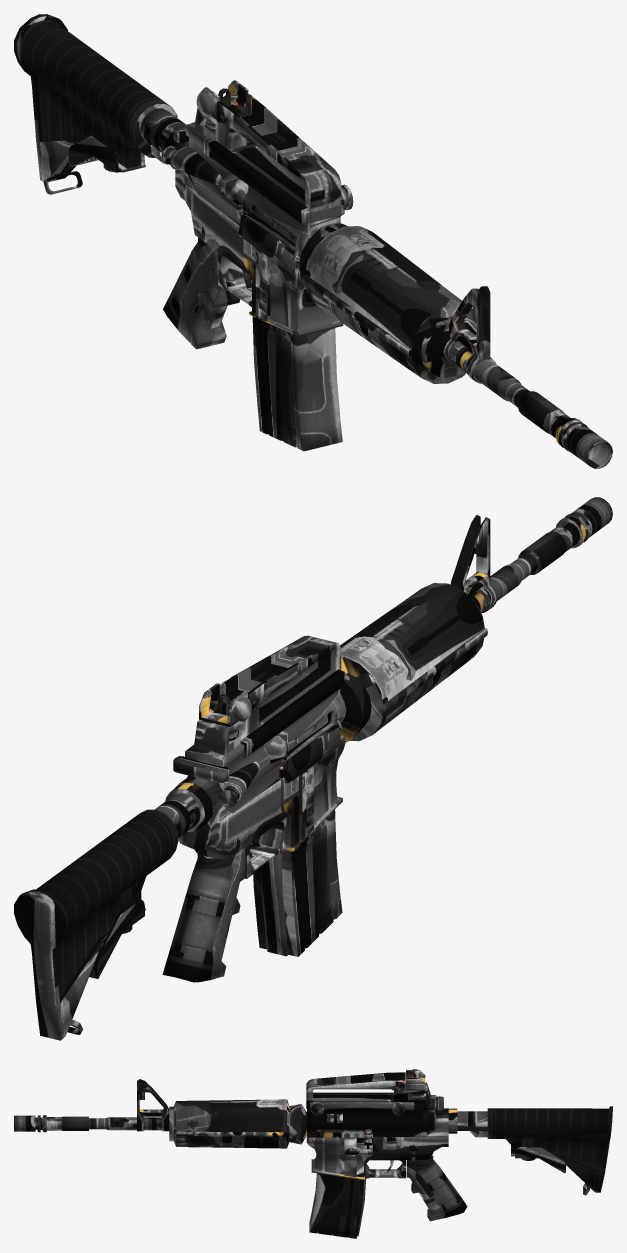
The picture shows the model from 3 angles, top to bottom: view 1: azimuth 30°, elevation 25°; view 2: azimuth 150°, elevation 25°; view 3: azimuth 270°, elevation 25°; orthographic projection. The views are drawn at different scales.
Parts seen in each view (by area): view 1: tzevyo_low, priklad_low.001, mag_low, derjat_low, ruchka_low, details_low, okolmag_low, corpuse_low, undercorp_low, pritzel_low, okoloruchk_low; view 2: priklad_low.001, tzevyo_low, mag_low, ruchka_low, derjat_low, undercorp_low, details_low, okolmag_low, corpuse_low, pritzel_low, okoloruchk_low, zatvor_low; view 3: tzevyo_low, priklad_low.001, corpuse_low, derjat_low, mag_low, ruchka_low, okolmag_low, undercorp_low, okoloruchk_low, details_low, pritzel_low.
Part boxes in pixels (x1,y1,x2,y2): tzevyo_low: (299,223,612,468); priklad_low.001: (14,14,185,181); mag_low: (252,316,342,451); derjat_low: (194,80,341,222); ruchka_low: (163,237,251,349); details_low: (43,88,353,273); okolmag_low: (243,239,343,336); corpuse_low: (185,122,344,268); undercorp_low: (174,141,249,274); pritzel_low: (442,286,496,383); okoloruchk_low: (203,136,344,224); priklad_low.001: (14,783,212,1040); tzevyo_low: (339,497,612,742); mag_low: (253,810,342,956); ruchka_low: (162,817,286,982); derjat_low: (193,635,341,755); undercorp_low: (174,776,288,859); details_low: (67,694,343,1034); okolmag_low: (279,735,345,851); corpuse_low: (185,689,346,812); pritzel_low: (450,515,496,612); okoloruchk_low: (240,669,344,757); zatvor_low: (173,756,229,782); tzevyo_low: (14,1099,306,1148); priklad_low.001: (448,1106,612,1192); corpuse_low: (307,1095,436,1137); derjat_low: (306,1070,430,1108); mag_low: (309,1173,366,1238); ruchka_low: (364,1155,467,1221); okolmag_low: (306,1133,372,1179); undercorp_low: (365,1108,448,1159); okoloruchk_low: (309,1092,414,1111); details_low: (310,1069,590,1195); pritzel_low: (137,1079,169,1131).
Size of the model in its own units: 0.3857 by 1.3 by 4.41.
